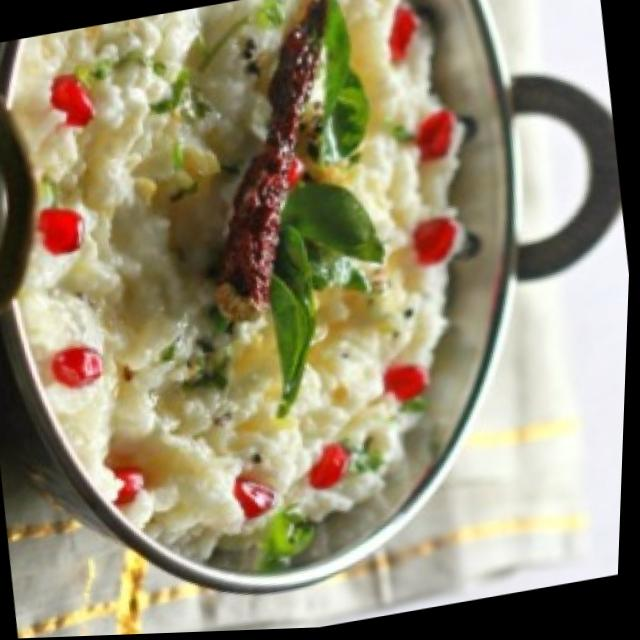CURD RICE: (7, 0, 470, 553)
